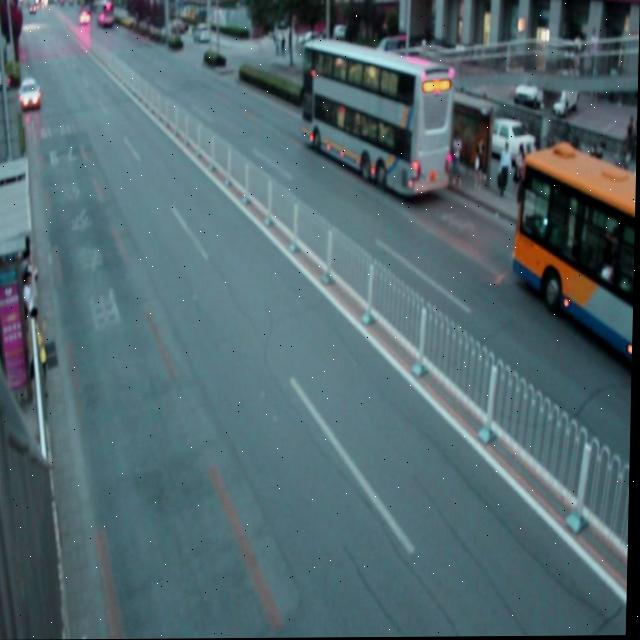van: (512, 147, 637, 360), (300, 40, 455, 197)
